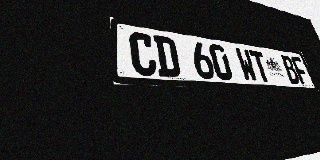0: (208, 43, 234, 80)
6: (190, 41, 216, 79)
B: (280, 55, 301, 84)
C: (128, 31, 158, 76)
D: (153, 35, 182, 78)
F: (290, 56, 311, 85)
T: (249, 50, 272, 82)
W: (234, 48, 259, 82)
